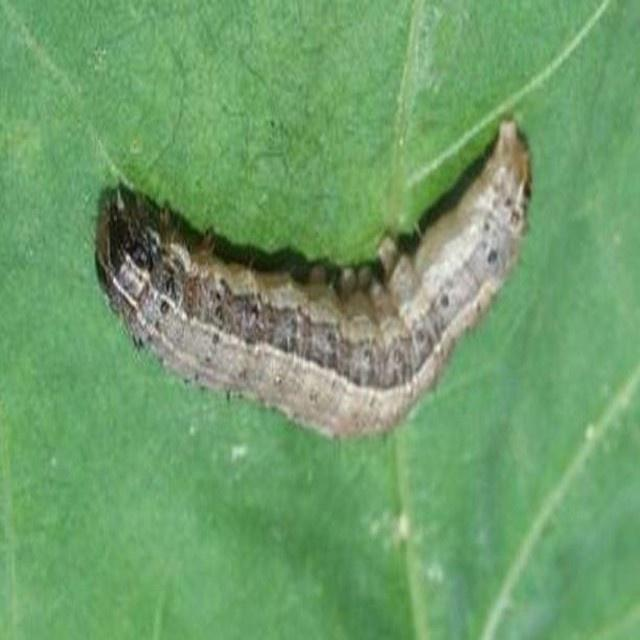gusano_cogollero: (94, 114, 537, 439)
